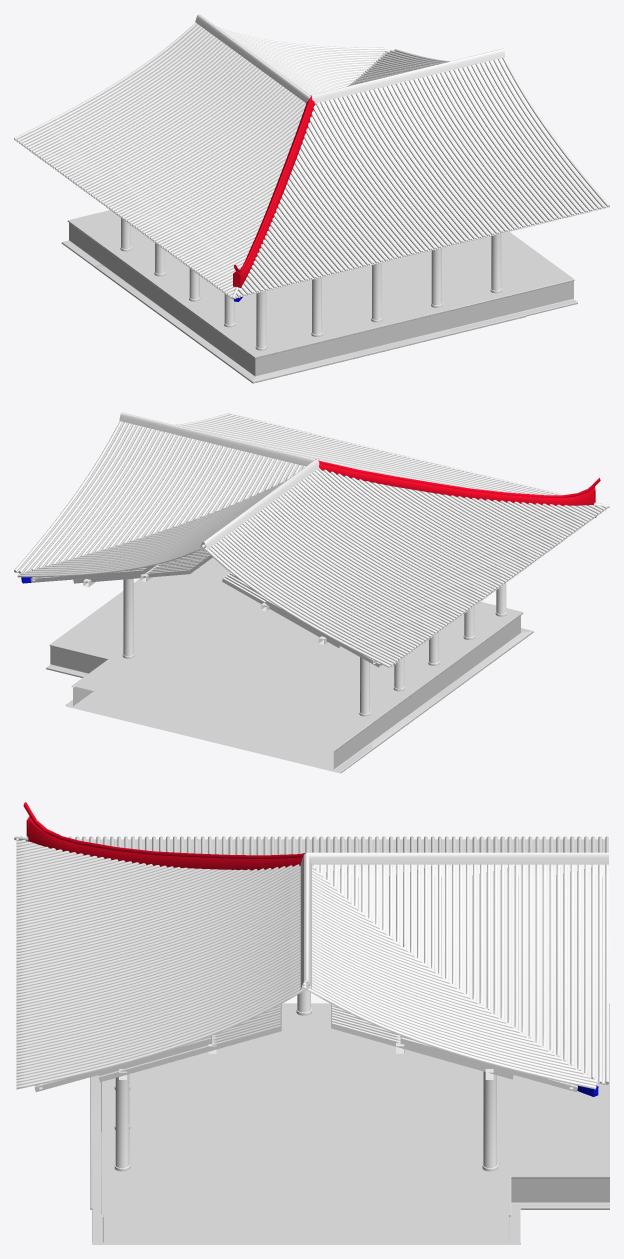
The model's file is Wall Big Corner 2.fbx.
3 views of the same model, one above another, from view 1: azimuth 30°, elevation 25°; view 2: azimuth 150°, elevation 25°; view 3: azimuth 270°, elevation 25° (orthographic). The views are drawn at different scales.
Parts seen in each view (by area): view 1: S_Heiankyo_Building_Roof_Corner.001, S_Heiankyo_Building_Foundation_Corner.007, S_Heiankyo_Building_Foundation_Loop.015, S_Heiankyo_Building_Foundation_Loop.016, S_Heiankyo_Building_Pillar_2.019, S_Heiankyo_Building_Pillar_2.011, S_Heiankyo_Building_Pillar_2.012, S_Heiankyo_Building_Pillar_2.013; view 2: S_Heiankyo_Building_Roof_Corner.001, S_Heiankyo_Building_Foundation_Loop.016, S_Heiankyo_Building_Foundation_Corner.007, S_Heiankyo_Building_Foundation_Loop.015, S_Heiankyo_Building_UnderRoof_Corner.001, S_Heiankyo_Building_Pillar_2.011, S_Heiankyo_Building_Pillar_2.012; view 3: S_Heiankyo_Building_Roof_Corner.001, S_Heiankyo_Building_Foundation_Loop.015, S_Heiankyo_Building_Foundation_Corner.007, S_Heiankyo_Building_Foundation_Loop.016, S_Heiankyo_Building_UnderRoof_Corner.001, S_Heiankyo_Building_Pillar_2.012.
Boxes of the visible parts, x1,y1,x2,y2 form: S_Heiankyo_Building_Roof_Corner.001: (14,14,609,299); S_Heiankyo_Building_Foundation_Corner.007: (94,236,526,383); S_Heiankyo_Building_Foundation_Loop.015: (384,231,577,332); S_Heiankyo_Building_Foundation_Loop.016: (61,210,146,292); S_Heiankyo_Building_Pillar_2.019: (311,248,442,336); S_Heiankyo_Building_Pillar_2.011: (120,218,267,350); S_Heiankyo_Building_Pillar_2.012: (490,233,501,293); S_Heiankyo_Building_Pillar_2.013: (371,262,382,322); S_Heiankyo_Building_Roof_Corner.001: (14,412,609,667); S_Heiankyo_Building_Foundation_Loop.016: (65,654,406,773); S_Heiankyo_Building_Foundation_Corner.007: (200,602,533,749); S_Heiankyo_Building_Foundation_Loop.015: (46,557,263,677); S_Heiankyo_Building_UnderRoof_Corner.001: (21,517,596,667); S_Heiankyo_Building_Pillar_2.011: (359,583,506,716); S_Heiankyo_Building_Pillar_2.012: (122,578,134,658); S_Heiankyo_Building_Roof_Corner.001: (14,802,608,1089); S_Heiankyo_Building_Foundation_Loop.015: (92,1132,520,1244); S_Heiankyo_Building_Foundation_Corner.007: (90,1003,521,1209); S_Heiankyo_Building_Foundation_Loop.016: (413,1003,609,1209); S_Heiankyo_Building_UnderRoof_Corner.001: (34,912,598,1096); S_Heiankyo_Building_Pillar_2.012: (114,1071,497,1171).
Bounding box in the file's own units: 1217 × 604 × 1221.
